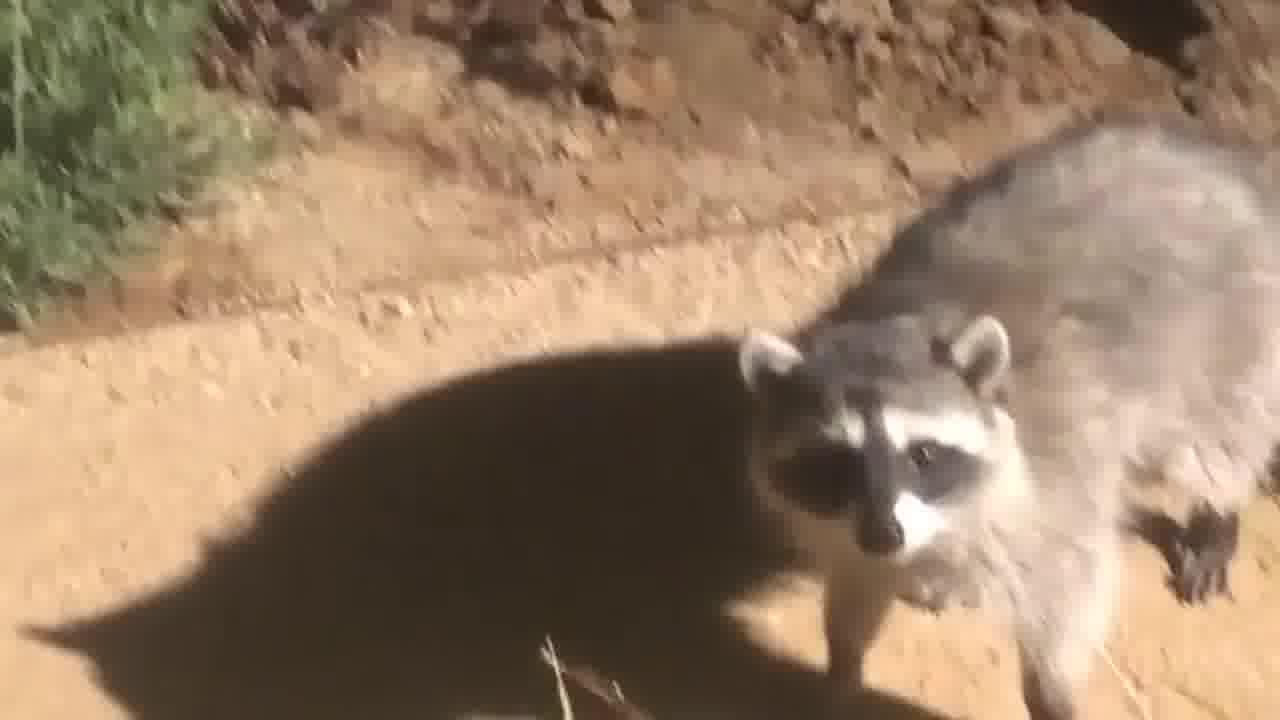raccoon: (740, 105, 1280, 720)
